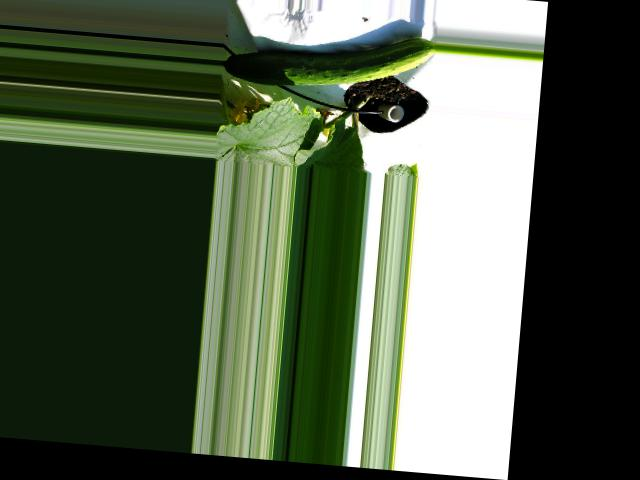cucumber: (221, 21, 437, 98)
